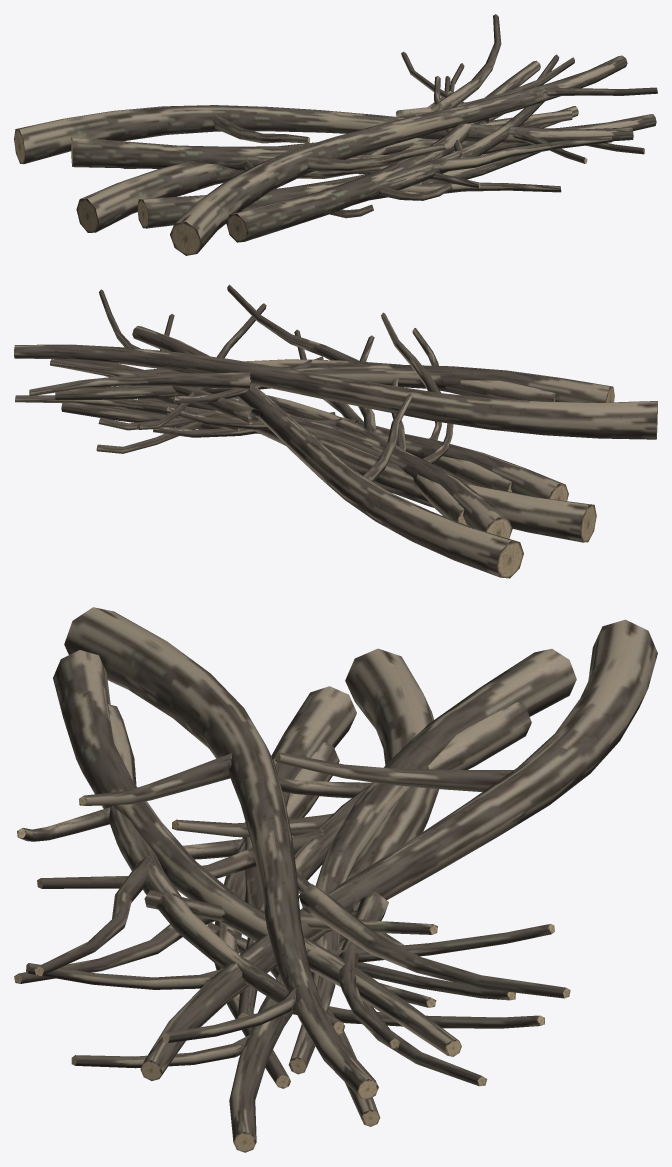
3 views of the same model, one above another, from view 1: azimuth 30°, elevation 25°; view 2: azimuth 150°, elevation 25°; view 3: azimuth 270°, elevation 25° (orthographic). The views are drawn at different scales.
Visible parts, largest first — view 1: variant_0_s1, variant_0_s2, variant_1_s1, variant_0_s0, variant_1_s2, variant_1_s0, variant_2_s1, variant_2_s0, variant_2_s2; view 2: variant_0_s1, variant_0_s2, variant_0_s0, variant_1_s1, variant_1_s0, variant_1_s2, variant_2_s1, variant_2_s2, variant_2_s0; view 3: variant_0_s1, variant_0_s2, variant_1_s1, variant_0_s0, variant_1_s2, variant_2_s1, variant_1_s0, variant_2_s2, variant_2_s0.
Boxes of the visible parts, x1,y1,x2,y2 form: variant_0_s1: [170, 14, 657, 255]; variant_0_s2: [14, 57, 633, 164]; variant_1_s1: [226, 51, 612, 242]; variant_0_s0: [76, 54, 656, 232]; variant_1_s2: [71, 63, 572, 188]; variant_1_s0: [137, 76, 578, 228]; variant_2_s1: [355, 76, 544, 204]; variant_2_s0: [330, 152, 540, 218]; variant_2_s2: [123, 90, 530, 170]; variant_0_s1: [14, 289, 657, 439]; variant_0_s2: [50, 303, 523, 578]; variant_0_s0: [15, 314, 596, 542]; variant_1_s1: [55, 284, 614, 429]; variant_1_s0: [61, 329, 568, 500]; variant_1_s2: [98, 335, 512, 538]; variant_2_s1: [132, 328, 555, 403]; variant_2_s2: [166, 395, 467, 525]; variant_2_s0: [138, 398, 511, 492]; variant_0_s1: [64, 607, 570, 1099]; variant_0_s2: [26, 619, 657, 1080]; variant_1_s1: [34, 650, 554, 1056]; variant_0_s0: [71, 648, 487, 1152]; variant_1_s2: [37, 648, 576, 1074]; variant_2_s1: [17, 704, 437, 1035]; variant_1_s0: [14, 686, 544, 1126]; variant_2_s2: [237, 702, 531, 1018]; variant_2_s0: [183, 742, 436, 1088].
Bounding box in the file's own units: 0.9646 × 0.1451 × 0.5697.
1 material, 1 textured.
